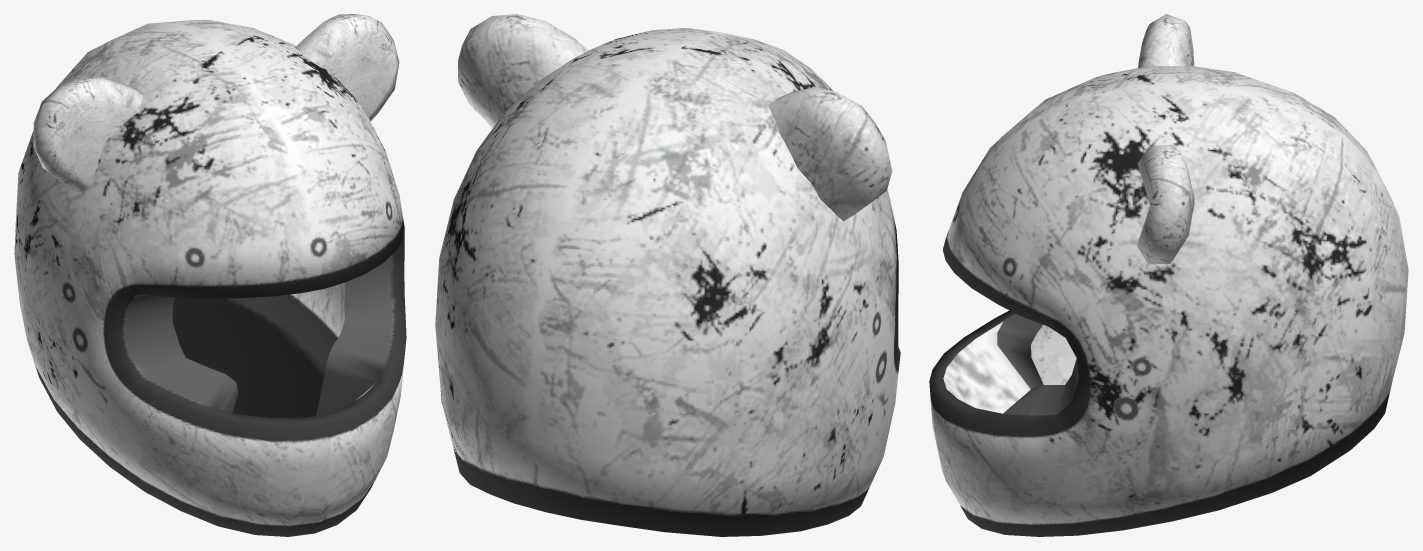
Rendered from SurvivorMale_Head_Helmet_Motorcycle_Panda_LOD0.glb.
3 renders of one model, left to right at view 1: azimuth 30°, elevation 25°; view 2: azimuth 150°, elevation 25°; view 3: azimuth 270°, elevation 25°, orthographic. The views are drawn at different scales.
Visible parts, largest first — view 1: Hoodie; view 2: Hoodie; view 3: Hoodie.
Boxes of the visible parts, box(x1,y1,x2,y2) form: Hoodie: box(14, 14, 406, 536); Hoodie: box(435, 14, 900, 536); Hoodie: box(929, 14, 1408, 536).
Bounding box in the file's own units: 0.2496 × 0.2728 × 0.2799.
1 material, 1 textured.
